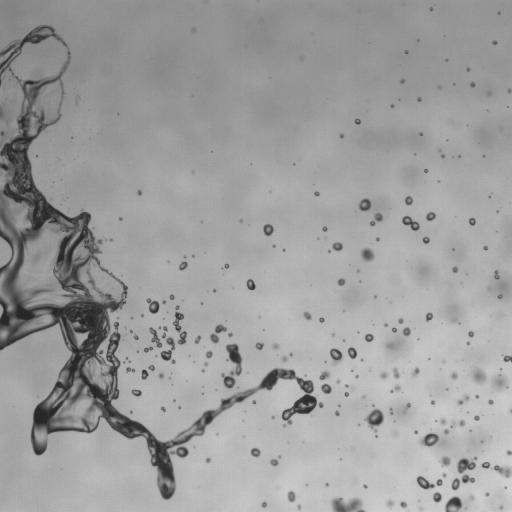droplet: (451, 456, 477, 490), (364, 407, 383, 433), (468, 367, 487, 384), (491, 374, 508, 391), (444, 496, 462, 511), (419, 433, 439, 446), (402, 216, 419, 230), (493, 465, 511, 478), (330, 348, 342, 364), (361, 247, 374, 261), (147, 298, 159, 313), (358, 198, 371, 211), (370, 213, 382, 226), (31, 251, 42, 263), (457, 394, 469, 405), (439, 456, 450, 467), (263, 224, 273, 236), (347, 347, 357, 358), (321, 383, 331, 394), (250, 447, 260, 457), (246, 279, 255, 290), (390, 384, 401, 393), (332, 242, 342, 251), (433, 492, 442, 502), (319, 371, 330, 379), (287, 491, 295, 502), (179, 260, 187, 270), (411, 367, 419, 377), (392, 368, 399, 379), (426, 212, 435, 220), (402, 327, 410, 336), (131, 389, 141, 396), (365, 333, 373, 341), (405, 196, 412, 205), (426, 312, 433, 321), (385, 500, 394, 507), (43, 247, 51, 254), (337, 278, 345, 285), (303, 312, 311, 319), (255, 342, 263, 349), (503, 355, 511, 362), (380, 372, 388, 379), (270, 459, 278, 466), (481, 462, 490, 468), (205, 351, 212, 358), (450, 372, 457, 379), (494, 270, 499, 279), (469, 218, 475, 225), (422, 237, 429, 243), (194, 336, 200, 343), (272, 343, 279, 349), (400, 501, 407, 507), (144, 347, 152, 352), (126, 367, 134, 372), (468, 331, 474, 337), (282, 356, 288, 362), (452, 266, 457, 273), (386, 343, 393, 348), (354, 119, 360, 124), (158, 373, 164, 378), (405, 403, 410, 409), (314, 191, 319, 196), (322, 226, 327, 231), (169, 294, 174, 299), (319, 317, 324, 322), (398, 318, 403, 323), (133, 335, 138, 340), (444, 429, 449, 434), (506, 450, 511, 455), (205, 457, 210, 462), (469, 495, 474, 500), (261, 502, 266, 507), (470, 82, 474, 87), (137, 190, 141, 195), (223, 264, 228, 268), (392, 327, 396, 332), (488, 400, 493, 404), (160, 407, 165, 411), (389, 409, 393, 414), (474, 416, 479, 420), (492, 40, 496, 44), (400, 79, 404, 83), (507, 89, 511, 93), (417, 97, 421, 101), (498, 294, 502, 298), (345, 384, 349, 388), (344, 392, 348, 396), (431, 400, 435, 404), (335, 411, 339, 415), (442, 473, 446, 477), (297, 505, 301, 509), (483, 246, 487, 249), (228, 333, 232, 336), (394, 431, 397, 435), (363, 485, 367, 488), (340, 134, 343, 137), (424, 169, 427, 172), (204, 362, 207, 365), (336, 379, 339, 382), (414, 430, 417, 433), (325, 483, 328, 486), (485, 492, 488, 495), (500, 506, 503, 509), (429, 8, 432, 10), (466, 68, 469, 70), (391, 104, 393, 107), (441, 155, 444, 157), (119, 217, 121, 220), (376, 238, 379, 240), (163, 300, 165, 303), (452, 319, 455, 321), (385, 323, 387, 326), (466, 342, 469, 344), (289, 353, 292, 355), (202, 369, 204, 372), (355, 375, 358, 377), (252, 401, 255, 403), (192, 29, 194, 31), (405, 51, 407, 53), (438, 86, 440, 88), (130, 330, 132, 332), (476, 395, 478, 397), (178, 406, 180, 408)
ligament: (0, 25, 323, 499), (149, 326, 175, 363), (221, 343, 242, 388), (172, 305, 186, 344), (330, 497, 365, 511), (416, 476, 442, 489), (209, 324, 226, 343), (438, 417, 465, 427), (141, 365, 154, 379), (75, 96, 79, 103), (420, 507, 422, 511), (510, 409, 511, 412)
